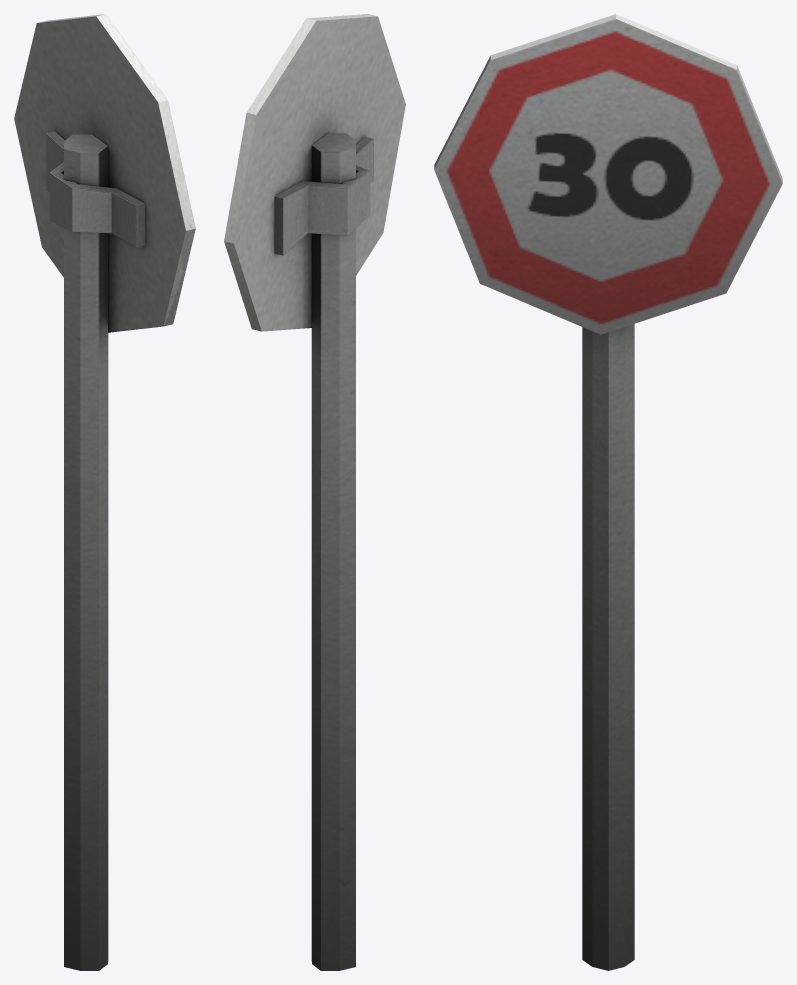
Rendered from Prop_SignSpeedLimit.FBX.
3 views of the same model, side by side, from view 1: azimuth 30°, elevation 25°; view 2: azimuth 150°, elevation 25°; view 3: azimuth 270°, elevation 25° (orthographic).
Visible parts, largest first — view 1: Prop_SignSpeed; view 2: Prop_SignSpeed; view 3: Prop_SignSpeed.
Boxes of the visible parts, left/top/right/bottom form: Prop_SignSpeed: left=14, top=14, right=195, bottom=970; Prop_SignSpeed: left=224, top=14, right=405, bottom=970; Prop_SignSpeed: left=434, top=14, right=782, bottom=970.
Size of the model in its own units: 9.8 by 179 by 59.41.
